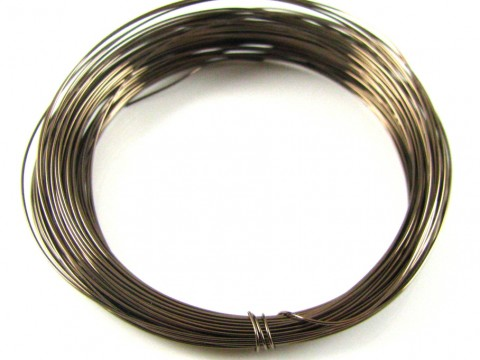Nonrec_Tangler: (15, 1, 459, 345)
